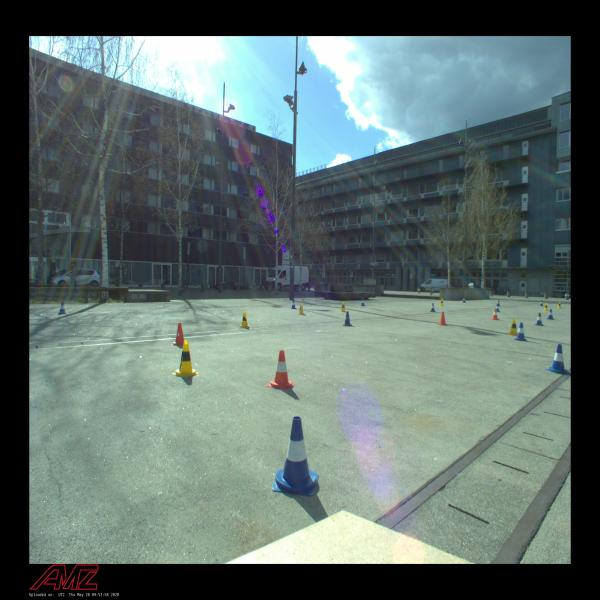blue_cone: (272, 416, 319, 496), (544, 344, 570, 374), (514, 322, 528, 342), (534, 312, 544, 326), (343, 312, 352, 326), (58, 302, 67, 314), (547, 309, 554, 320), (430, 302, 436, 312), (360, 298, 366, 306), (291, 300, 296, 309), (496, 303, 500, 312), (540, 300, 544, 306), (497, 300, 500, 306), (463, 297, 466, 302)
orange_cone: (267, 350, 295, 390), (171, 322, 185, 346), (439, 312, 447, 326), (491, 308, 498, 320)
yellow_cone: (172, 340, 199, 378), (239, 311, 250, 329), (508, 318, 518, 336), (298, 303, 305, 314), (340, 302, 346, 312), (557, 301, 562, 308), (544, 303, 548, 311), (440, 299, 444, 306)
